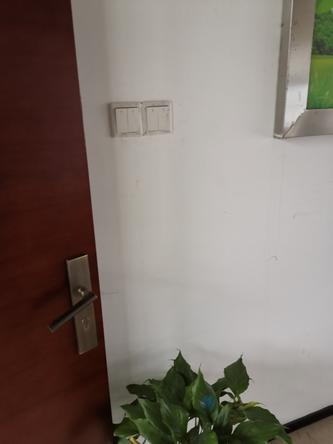switch: (124, 106, 143, 134), (113, 106, 130, 135), (145, 103, 161, 132), (156, 104, 173, 131)
